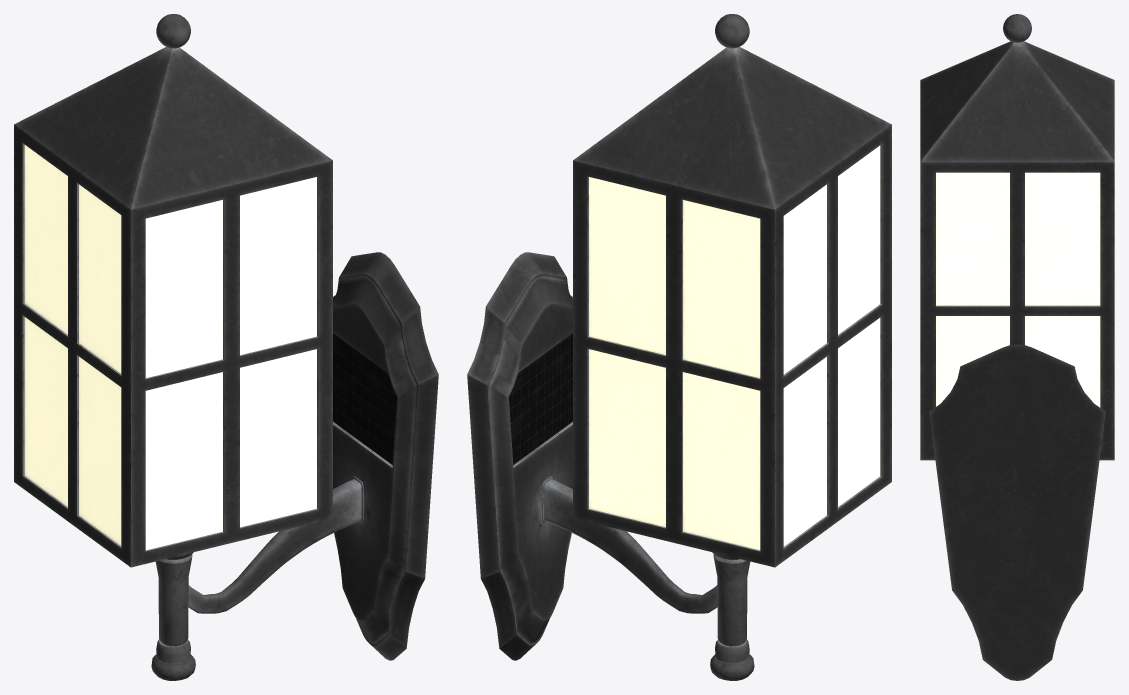
The model's file is outdoor_wall_lamp_free.glb.
3 renders of one model, left to right at view 1: azimuth 30°, elevation 25°; view 2: azimuth 150°, elevation 25°; view 3: azimuth 270°, elevation 25°, orthographic. The views are drawn at different scales.
Visible parts, largest first — view 1: Cube.001; view 2: Cube.001; view 3: Cube.001.
Part boxes in pixels (x1,y1,x2,y2): Cube.001: [14, 14, 438, 680]; Cube.001: [467, 14, 891, 680]; Cube.001: [920, 14, 1114, 680].
Bounding box in the file's own units: 0.4922 × 1.04 × 0.3176.
Materials: 1 (1 with a texture image).
